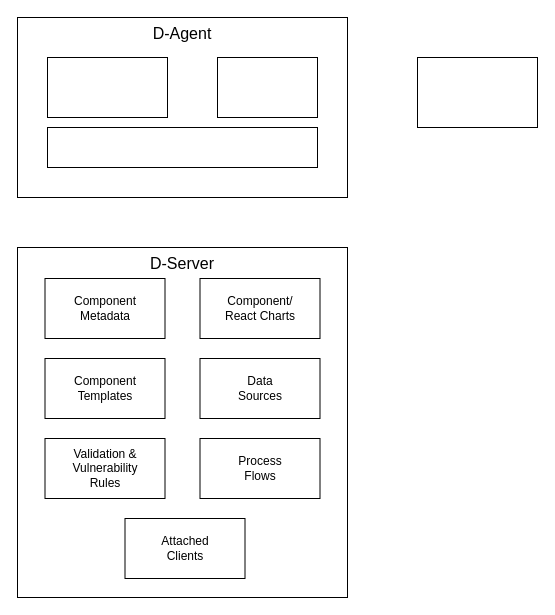
The diagram is 555 pixels wide and 615 high, and some of its shapes have lost their labels. The centre of each missing label's shape, as x and y in pixels:
chat memory: point 267,87
Context Memory: point 182,147
LLM: point 477,92
MCP URL: point 107,87
